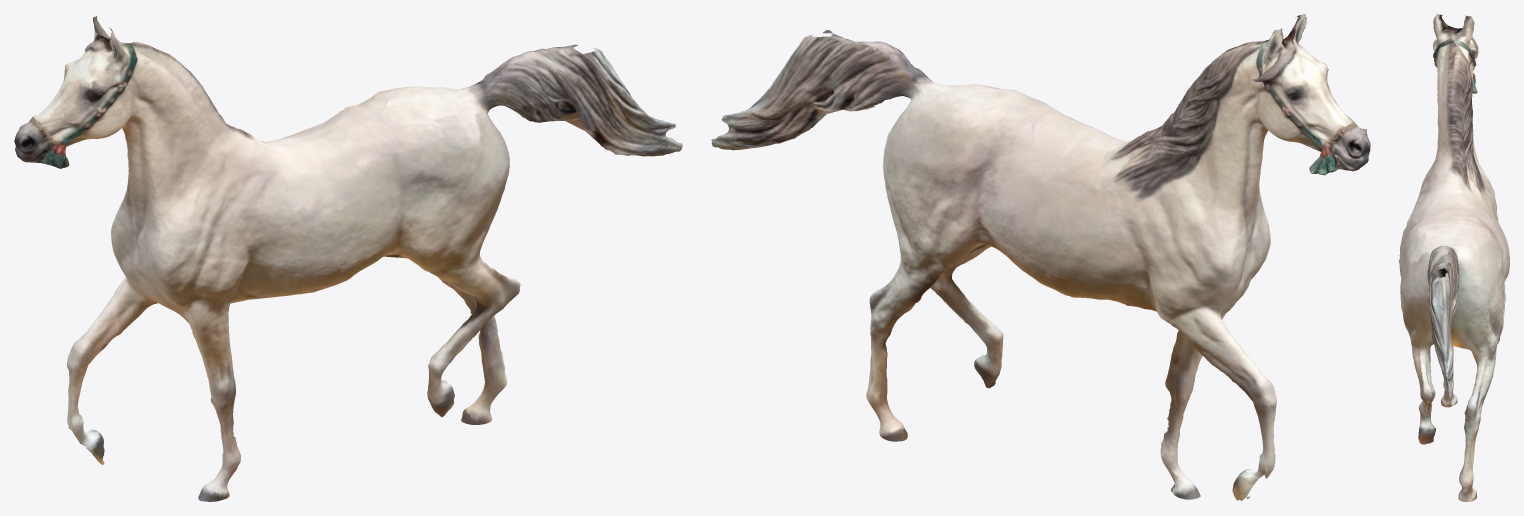
File: white_horse.glb
The picture shows the model from 3 angles, left to right: view 1: azimuth 30°, elevation 25°; view 2: azimuth 150°, elevation 25°; view 3: azimuth 270°, elevation 25°; orthographic projection. The views are drawn at different scales.
Visible parts, largest first — view 1: Object_2; view 2: Object_2; view 3: Object_2.
Boxes of the visible parts, x1,y1,x2,y2 form: Object_2: [14, 16, 682, 501]; Object_2: [711, 14, 1370, 500]; Object_2: [1399, 14, 1509, 501].
Bounding box in the file's own units: 2.82 × 2.04 × 0.5847.
1 material, 1 textured.
